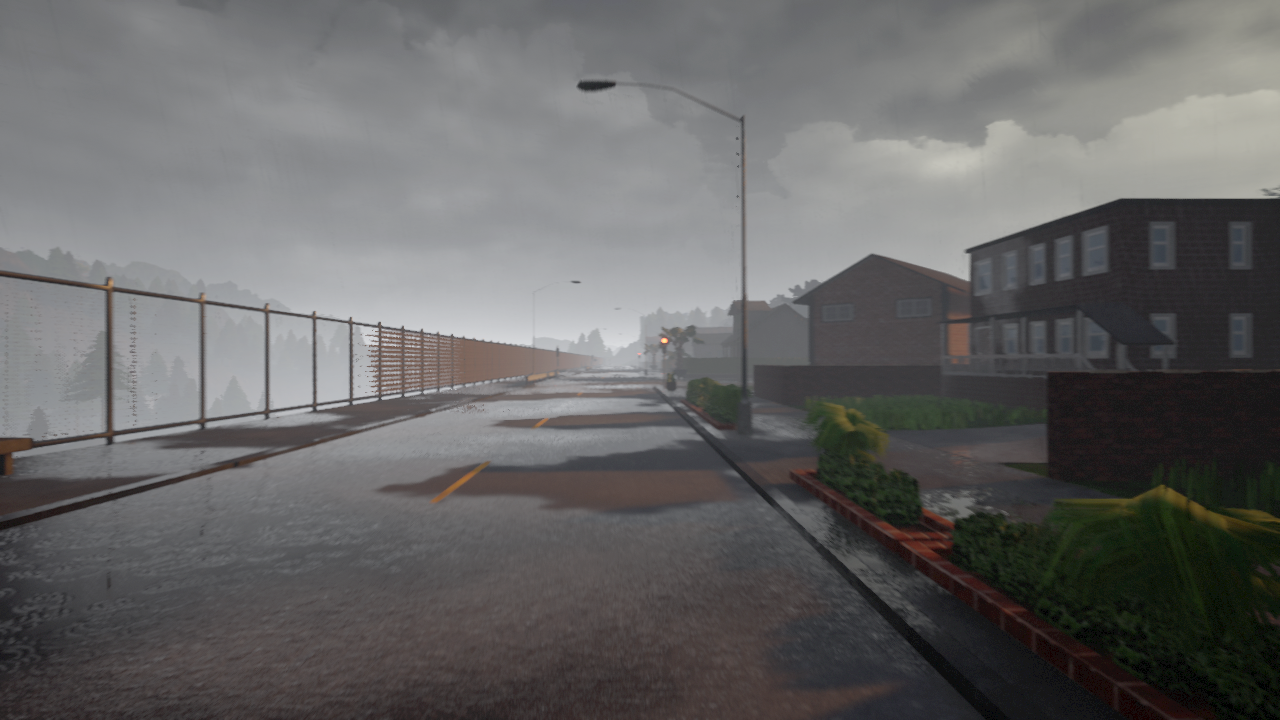red: (660, 335, 667, 352)
